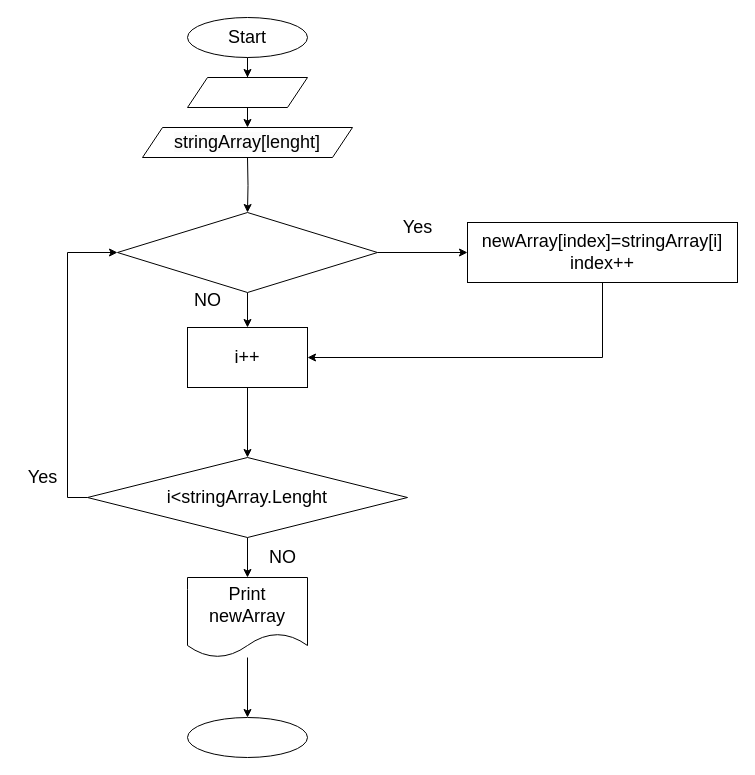
Some shapes in this 755 by 775 pixel diagram are drawn without their labels. The shapes that lost their labels are listed below. From the top down, each one's box as (x1, y1, x2, y2) in pixels, then its label:
(186, 76, 308, 108): lenght
(116, 212, 378, 292): stringArray[i].Lenght<=3
(186, 716, 308, 758): End
